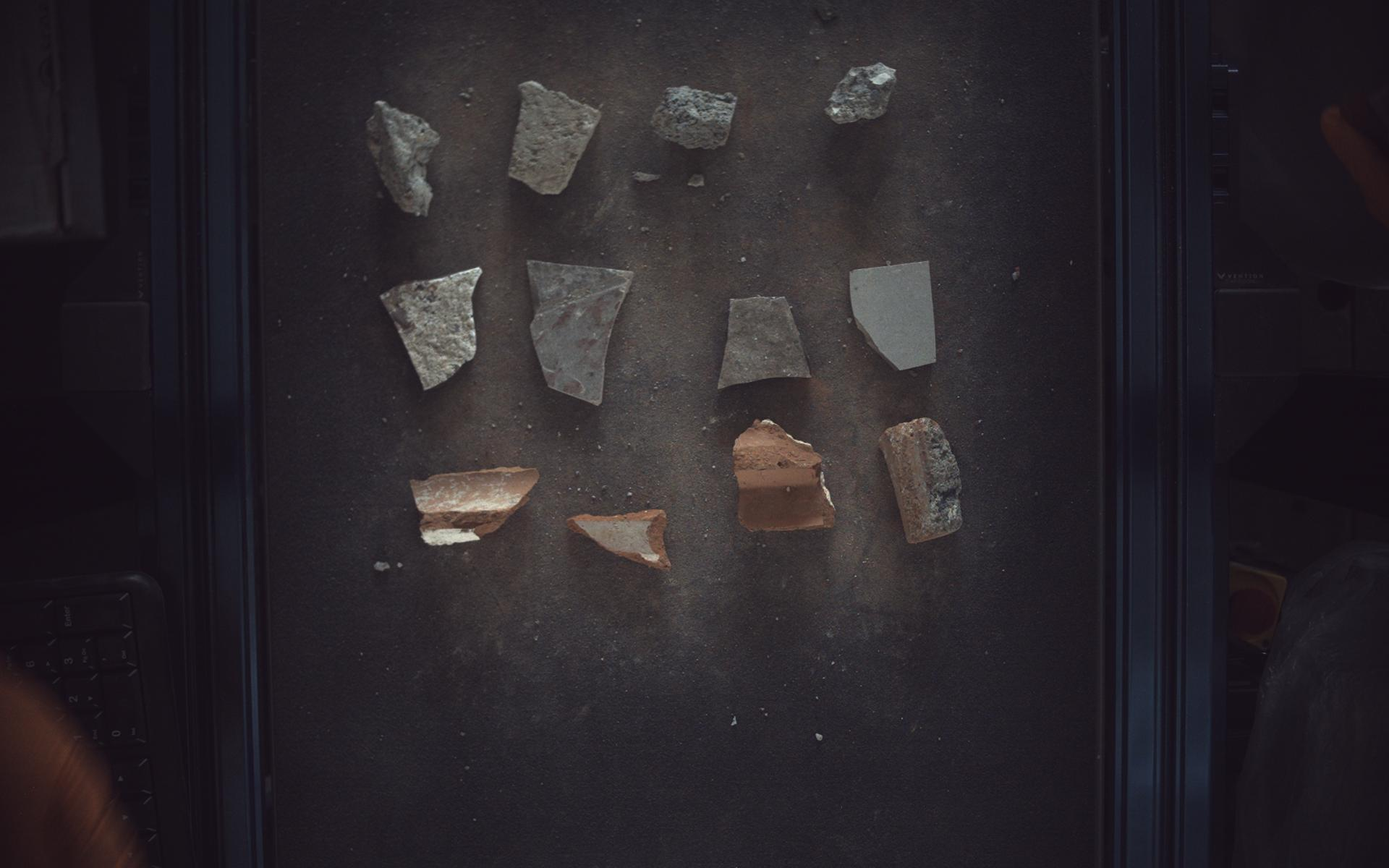brick: (734, 420, 836, 532), (880, 417, 964, 544), (410, 467, 539, 546), (567, 511, 672, 571)
concrete: (509, 80, 601, 194), (366, 100, 440, 216), (652, 85, 739, 148), (827, 61, 898, 123)
tile: (527, 260, 634, 404), (380, 267, 482, 390), (851, 260, 938, 370), (718, 295, 811, 390)
